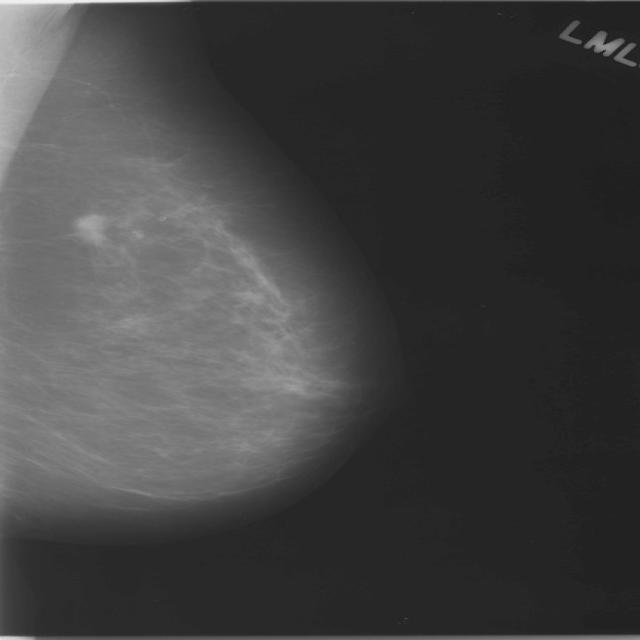tumour: (70, 212, 105, 245)
